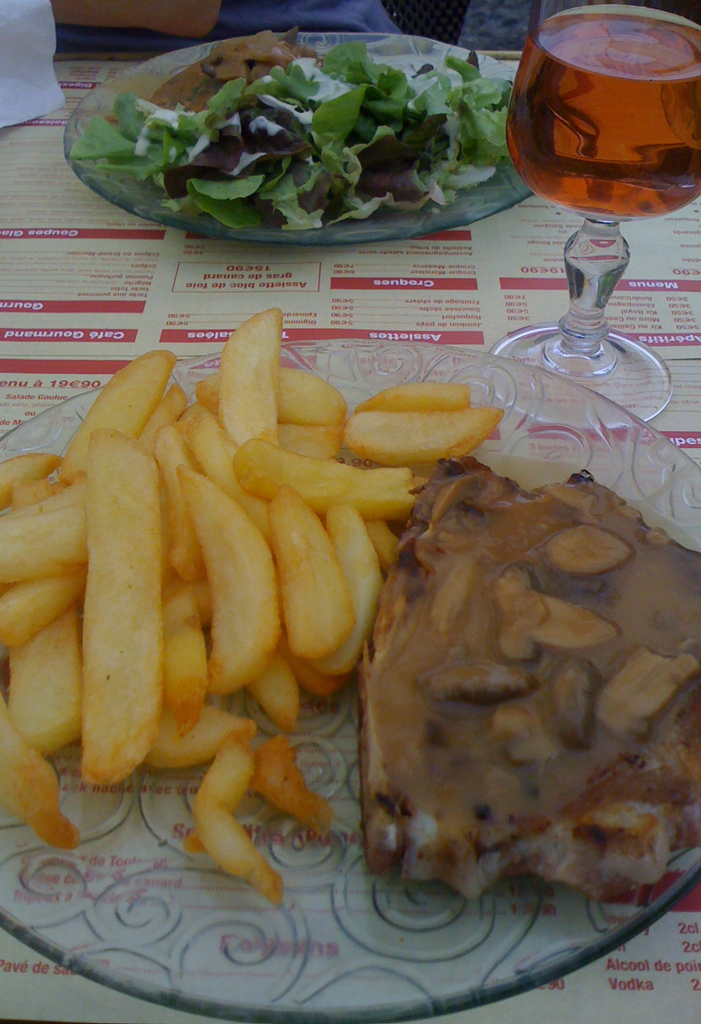French fries: (52, 270, 389, 819)
